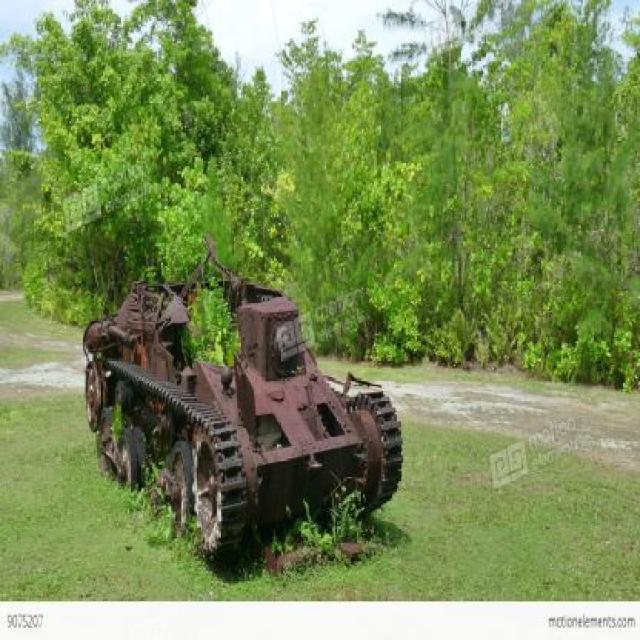corrosion: (78, 250, 404, 564)
